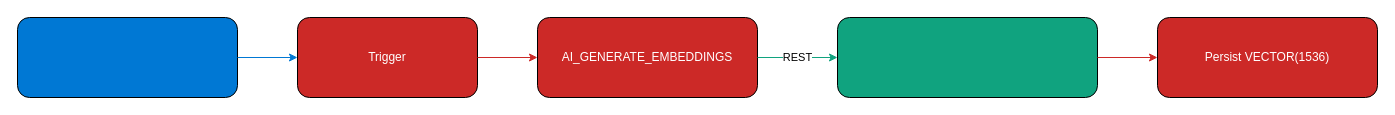
This 1395x115 diagram has some shape labels left out. The shapes that lost their labels are listed below. From the top down, each one's centre as x and y in pixels, then its label:
point 127,57: Insert/Update Review
point 967,57: Azure OpenAI\nEmbedding deployment
